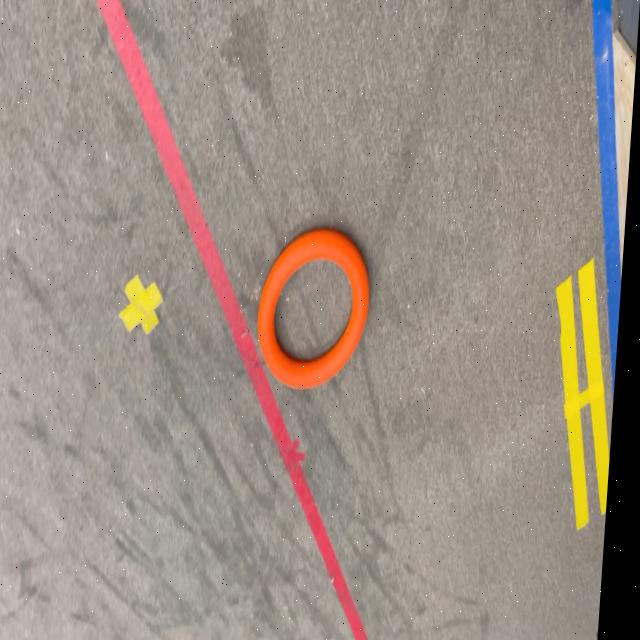note: (260, 228, 377, 391)
